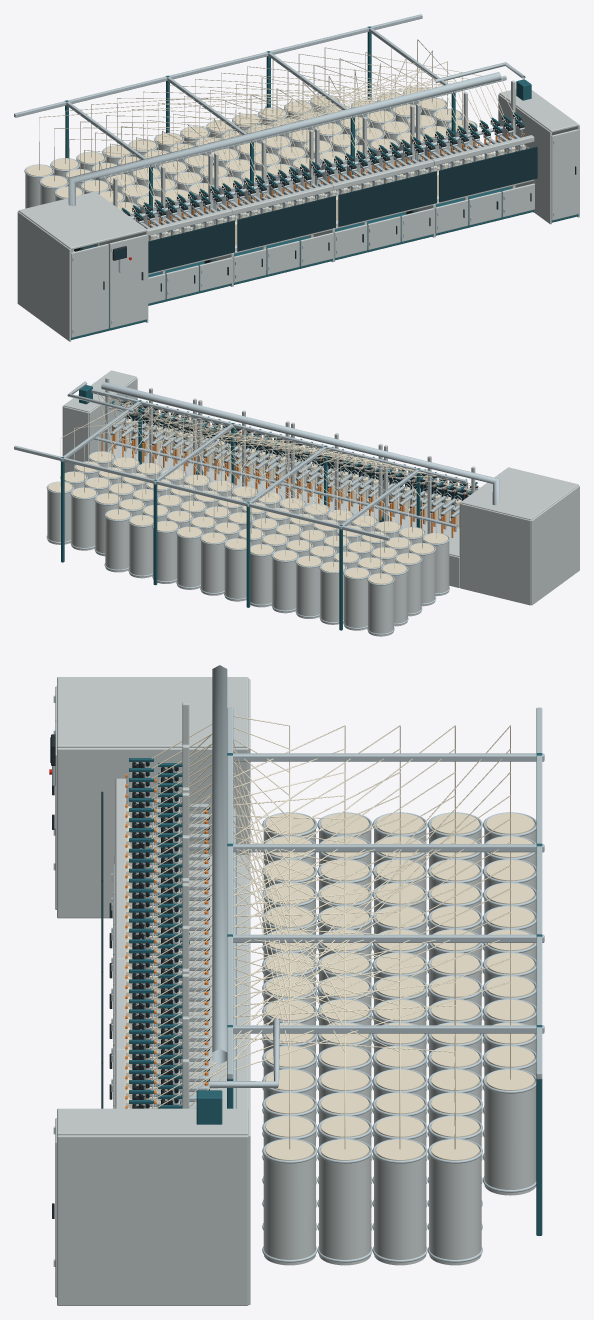
File: roving.glb
3 views of the same model, one above another, from view 1: azimuth 30°, elevation 25°; view 2: azimuth 150°, elevation 25°; view 3: azimuth 270°, elevation 25° (orthographic). The views are drawn at different scales.
Visible parts, largest first — view 1: F40_drive_end_end, F40_drive_end_roof, F40_suction_main, F40_drive_end_door, F40_glazed_guard.002, F40_glazed_guard.001, F40_glazed_guard.003, F40_drive_end_door.001, F40_glazed_guard, F40_transfer_end_door, F40_transfer_end_end, F40_creel_longbeam.001 (+31 smaller); view 2: F40_drive_end_rear, F40_drive_end_end, F40_drive_end_roof, F40_suction_main, F40_creel_longbeam.001, F40_creel_longbeam, F40_internal_transport, F40_transfer_end_rear, can_body.060, can_body.058, can_body.063, can_body.071 (+35 smaller); view 3: F40_transfer_end_end.001, F40_drive_end_end.001, F40_drive_end_roof, F40_suction_main, can_body.071, can_body.059, can_body.044, can_body.029, can_body.014, F40_transfer_end_roof, F40_creel_crossbeam, F40_creel_crossbeam.002 (+48 smaller).
Boxes of the visible parts, bbox=[...] form: F40_drive_end_end: bbox=[17, 211, 71, 341]; F40_drive_end_roof: bbox=[18, 191, 147, 249]; F40_suction_main: bbox=[68, 72, 501, 252]; F40_drive_end_door: bbox=[71, 244, 108, 337]; F40_glazed_guard.002: bbox=[338, 171, 436, 226]; F40_glazed_guard.001: bbox=[237, 195, 335, 251]; F40_glazed_guard.003: bbox=[439, 146, 537, 202]; F40_drive_end_door.001: bbox=[109, 234, 147, 328]; F40_glazed_guard: bbox=[148, 220, 234, 273]; F40_transfer_end_door: bbox=[551, 129, 578, 220]; F40_transfer_end_end: bbox=[498, 94, 551, 224]; F40_creel_longbeam.001: bbox=[14, 14, 422, 117]; F40_drive_end_rear: bbox=[460, 503, 531, 605]; F40_drive_end_end: bbox=[531, 485, 579, 605]; F40_drive_end_roof: bbox=[460, 467, 578, 520]; F40_suction_main: bbox=[101, 381, 499, 505]; F40_creel_longbeam.001: bbox=[14, 445, 389, 540]; F40_creel_longbeam: bbox=[91, 389, 467, 484]; F40_internal_transport: bbox=[93, 437, 457, 527]; F40_transfer_end_rear: bbox=[63, 406, 88, 472]; can_body.060: bbox=[368, 578, 393, 636]; can_body.058: bbox=[71, 493, 96, 550]; can_body.063: bbox=[296, 561, 321, 618]; can_body.071: bbox=[105, 514, 130, 572]; F40_transfer_end_end.001: bbox=[57, 1135, 248, 1305]; F40_drive_end_end.001: bbox=[57, 748, 248, 918]; F40_drive_end_roof: bbox=[57, 677, 248, 747]; F40_suction_main: bbox=[212, 665, 227, 1064]; can_body.071: bbox=[484, 1079, 536, 1195]; can_body.059: bbox=[429, 1149, 481, 1265]; can_body.044: bbox=[374, 1149, 426, 1265]; can_body.029: bbox=[319, 1149, 371, 1265]; can_body.014: bbox=[263, 1149, 315, 1265]; F40_transfer_end_roof: bbox=[57, 1108, 248, 1135]; F40_creel_crossbeam: bbox=[233, 753, 544, 761]; F40_creel_crossbeam.002: bbox=[233, 934, 544, 942].
Size of the model in its own units: 10.53 by 2.4 by 4.8.
